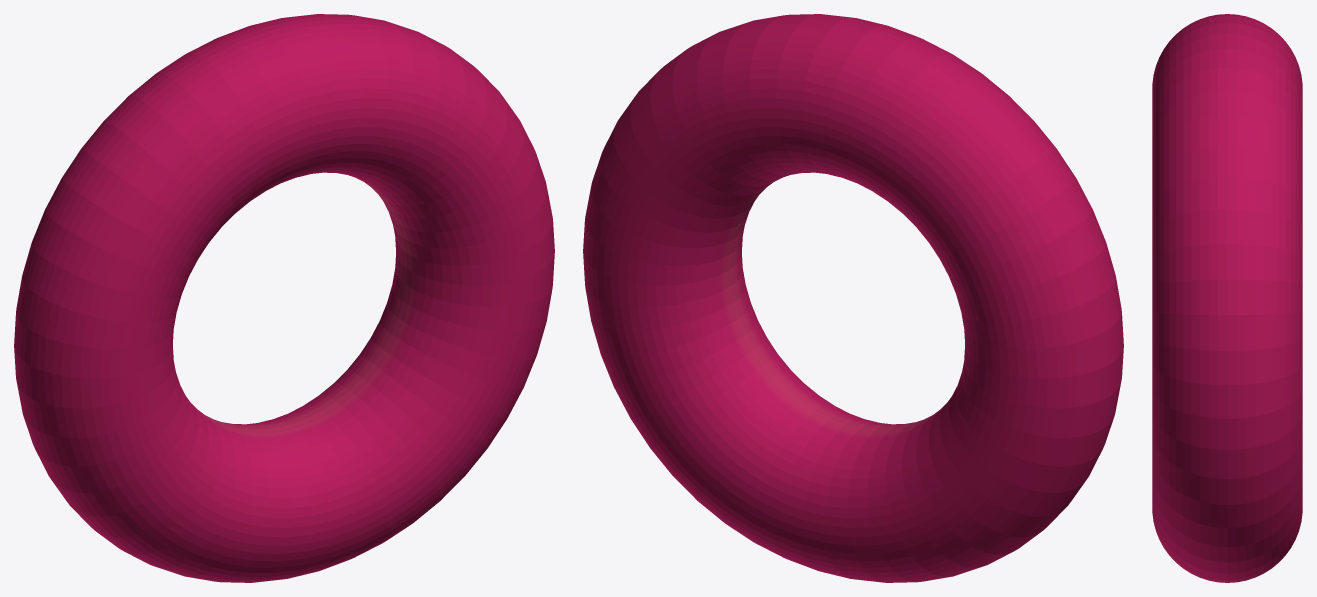
The picture shows the model from 3 angles, left to right: view 1: azimuth 30°, elevation 25°; view 2: azimuth 150°, elevation 25°; view 3: azimuth 270°, elevation 25°; orthographic projection. The views are drawn at different scales.
Visible parts, largest first — view 1: world; view 2: world; view 3: world.
Part boxes in pixels (x1,y1,x2,y2): world: (14, 14, 554, 582); world: (583, 14, 1123, 582); world: (1152, 14, 1302, 582).
Size of the model in its own units: 31.73 by 31.67 by 8.38.
